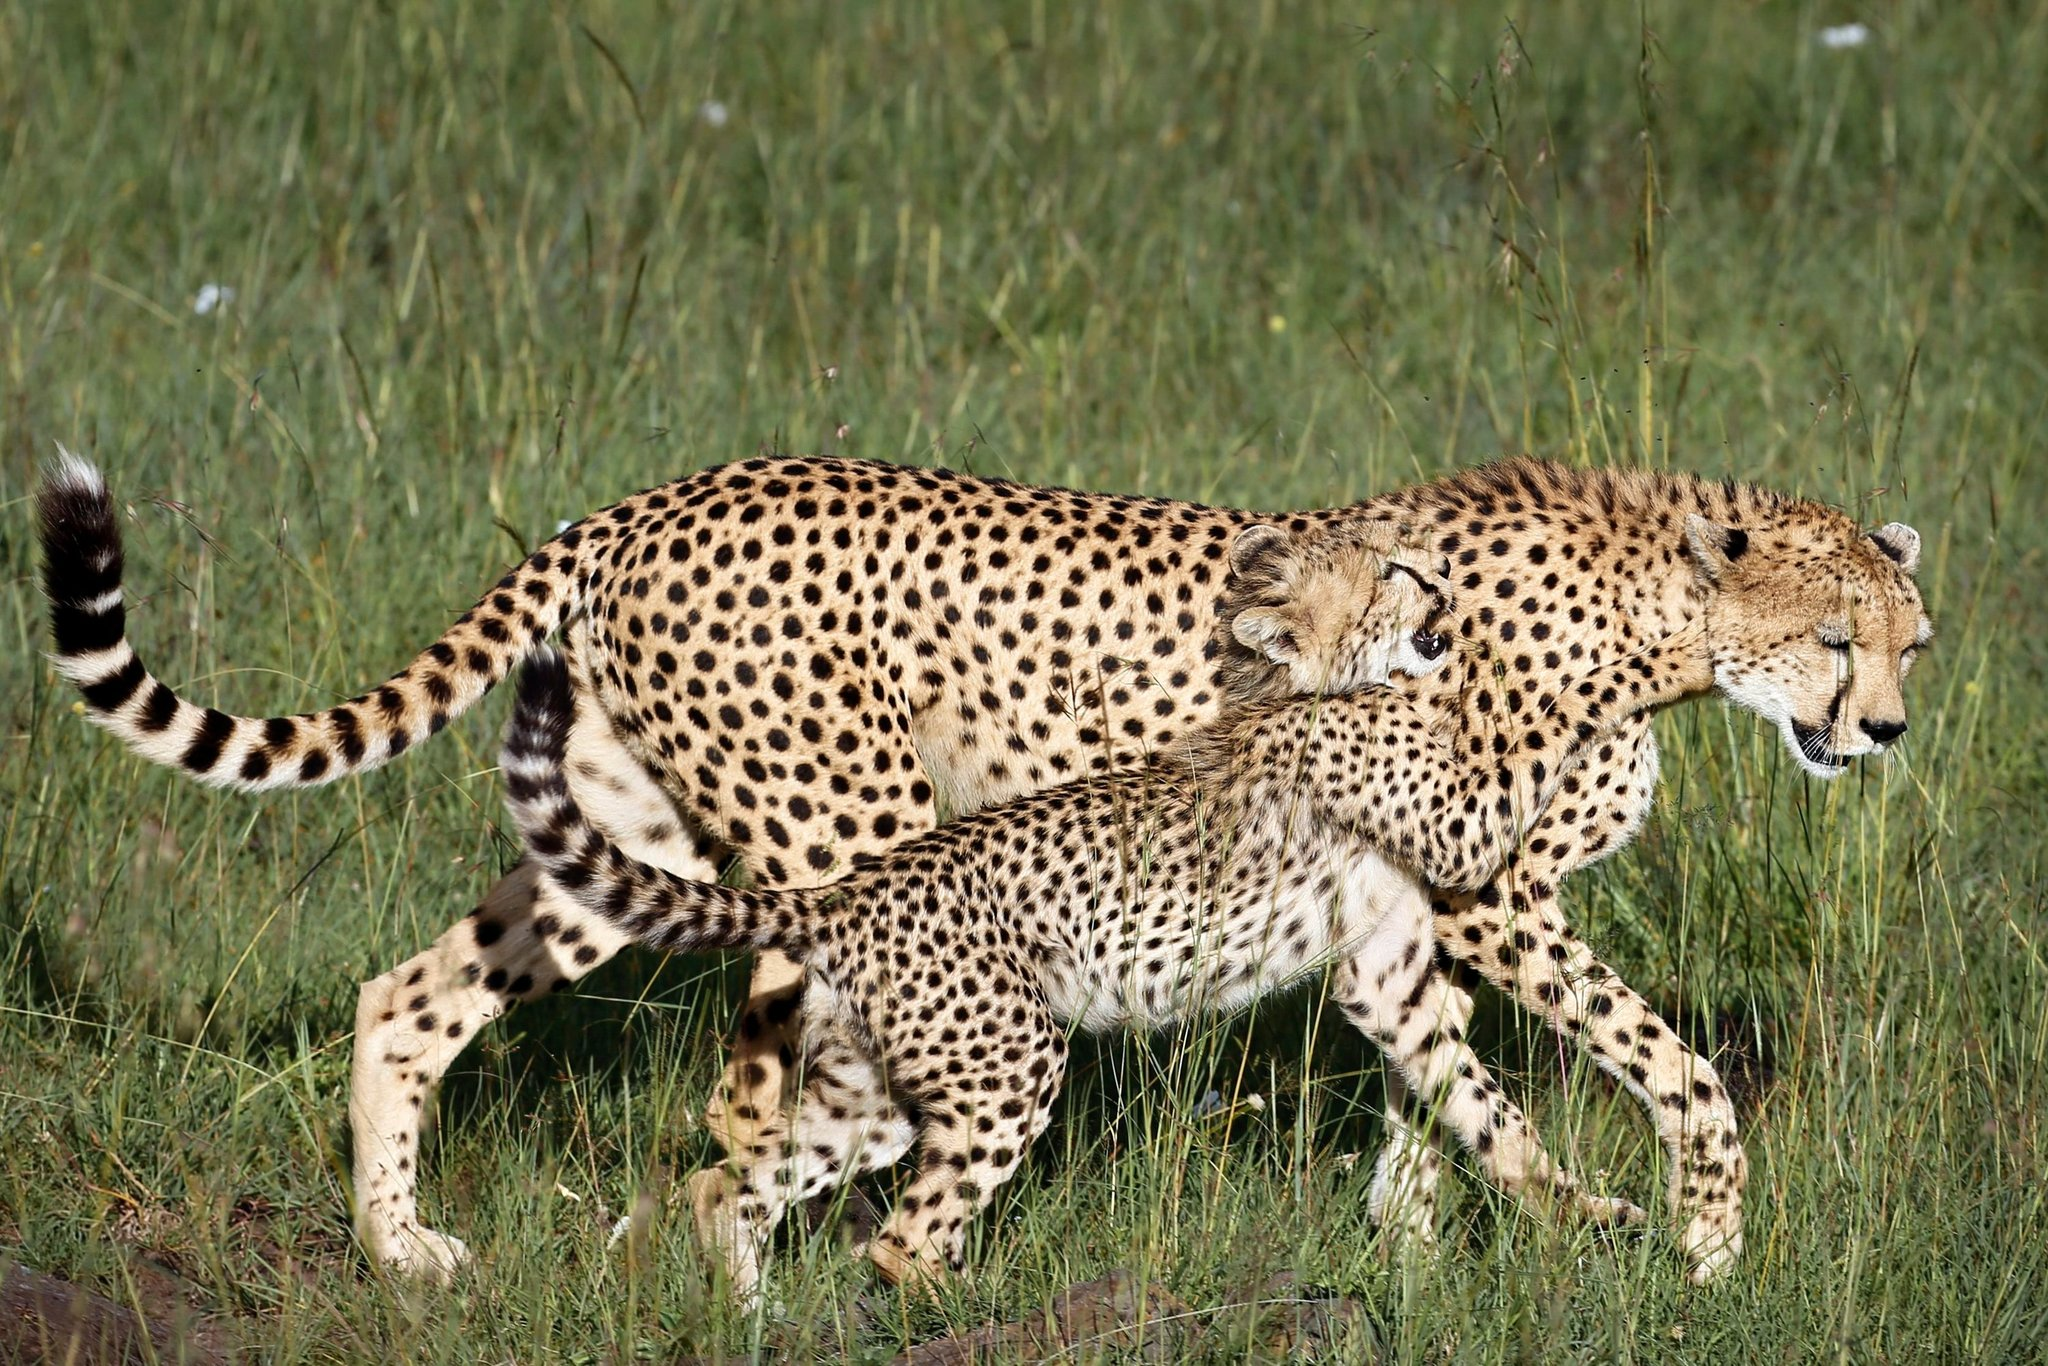cheetah: (1678, 474, 1938, 794)
